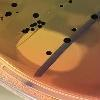black: (88, 13, 100, 22), (62, 37, 72, 44), (3, 11, 13, 17), (31, 12, 40, 18), (10, 2, 18, 8), (44, 50, 52, 56), (21, 29, 28, 34), (31, 21, 38, 26), (37, 24, 43, 29), (30, 27, 36, 32), (71, 27, 77, 32), (58, 3, 64, 8), (0, 15, 4, 22), (67, 1, 74, 5), (29, 23, 34, 28), (37, 19, 42, 24), (41, 21, 46, 26), (15, 11, 20, 14), (24, 28, 31, 30), (68, 0, 72, 2)
